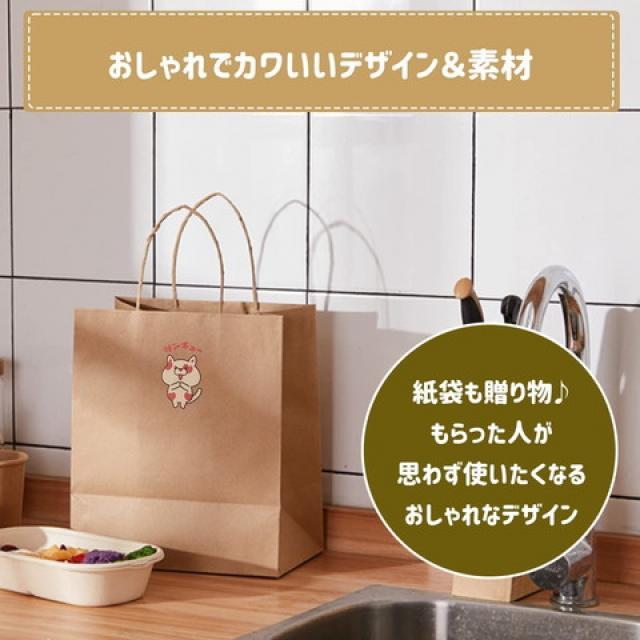paper bag: (68, 189, 330, 582)
